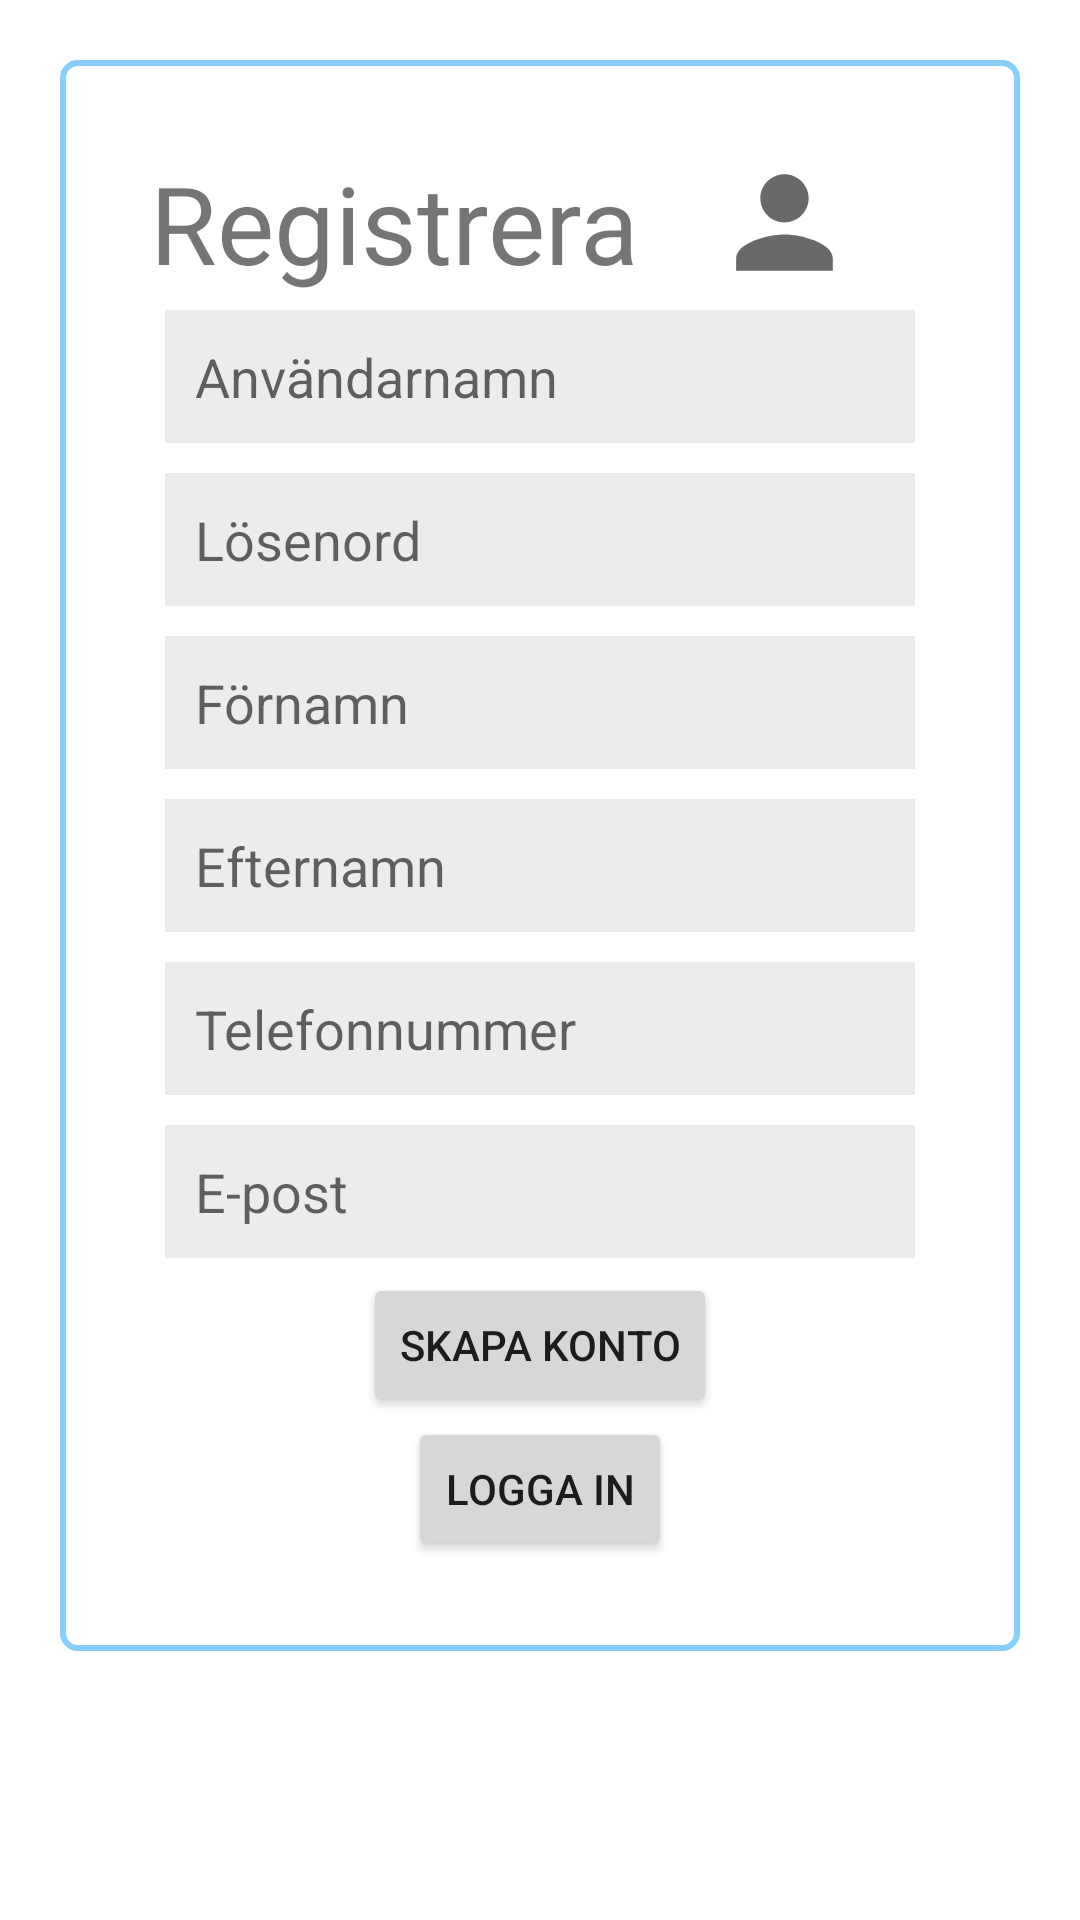

Icon bounding boxes for this 1080 × 1920 phone screenshot, format (x1, y1, x2, y2):
person: (736, 174, 833, 271)
